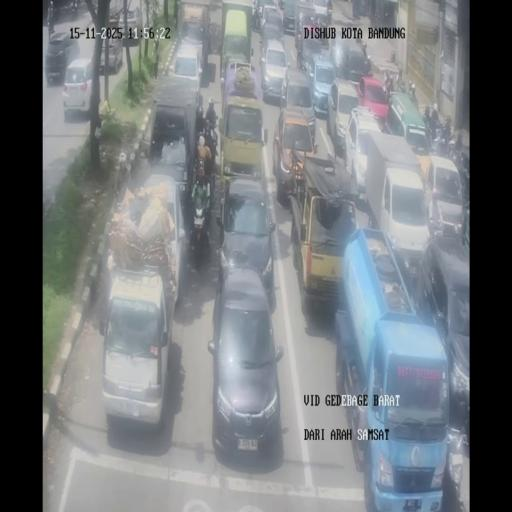car: (100, 266, 174, 431), (215, 177, 276, 305), (134, 174, 188, 310), (422, 154, 466, 237), (386, 92, 430, 154), (328, 76, 362, 152), (62, 58, 96, 119), (259, 38, 289, 103), (304, 54, 335, 116), (116, 6, 142, 47), (98, 34, 122, 74), (280, 1, 298, 34), (311, 0, 333, 26)
motorcycle: (189, 199, 209, 264), (330, 36, 350, 77), (429, 122, 453, 154), (202, 124, 218, 158), (382, 69, 394, 100), (251, 0, 261, 32), (423, 106, 433, 136), (363, 52, 374, 77), (295, 21, 303, 55), (395, 70, 406, 94), (409, 82, 418, 108), (68, 0, 79, 12), (362, 42, 368, 58)
truck: (336, 233, 449, 508), (287, 156, 356, 318), (362, 132, 427, 269), (145, 80, 203, 203), (218, 94, 266, 196), (219, 1, 254, 82), (176, 0, 213, 70), (208, 21, 222, 54)
